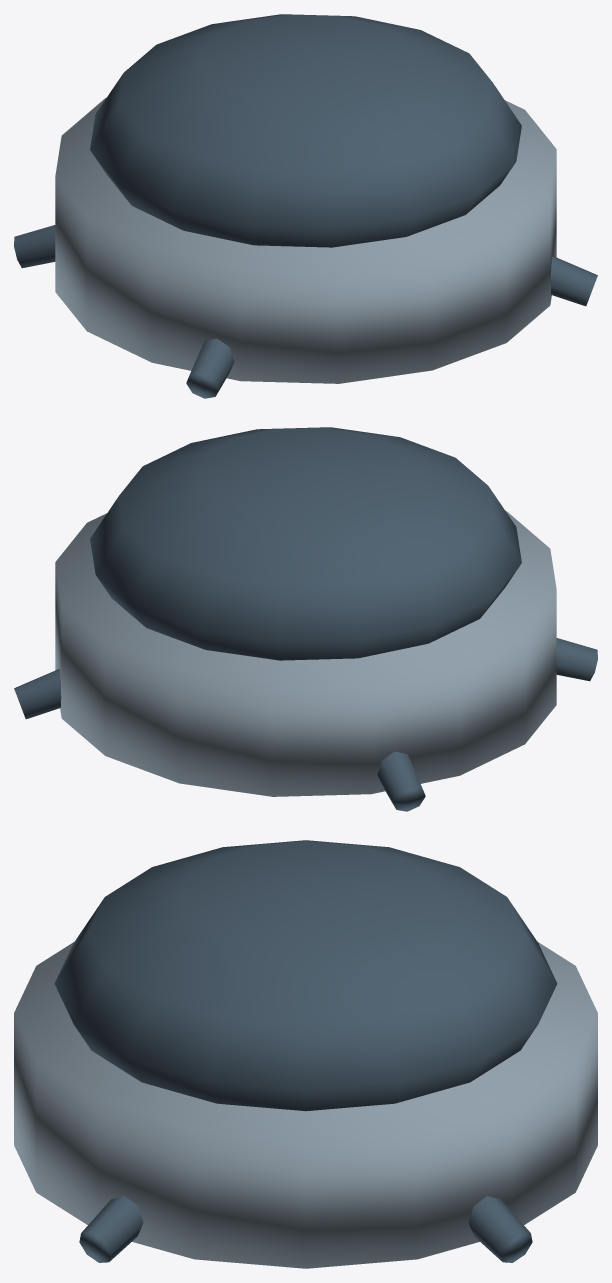
Rendered from empMine.glb.
3 views of the same model, one above another, from view 1: azimuth 30°, elevation 25°; view 2: azimuth 150°, elevation 25°; view 3: azimuth 270°, elevation 25° (orthographic). The views are drawn at different scales.
Parts seen in each view (by area): view 1: mine_shell_6, deployment_base_1, tripod_2, tripod_4, tripod_3; view 2: mine_shell_6, deployment_base_1, tripod_3, tripod_5, tripod_2; view 3: mine_shell_6, deployment_base_1, tripod_4, tripod_5.
Part boxes in pixels (x1,y1,x2,y2): mine_shell_6: (90,14,521,247); deployment_base_1: (55,98,556,383); tripod_2: (186,338,234,398); tripod_4: (550,256,597,306); tripod_3: (14,225,55,268); mine_shell_6: (90,427,521,660); deployment_base_1: (55,511,556,796); tripod_3: (377,751,425,811); tripod_5: (14,669,61,719); tripod_2: (556,638,597,681); mine_shell_6: (54,840,557,1111); deployment_base_1: (14,942,597,1268); tripod_4: (79,1196,143,1262); tripod_5: (468,1196,532,1262).
Bounding box in the file's own units: 0.72 × 0.3737 × 0.72.
